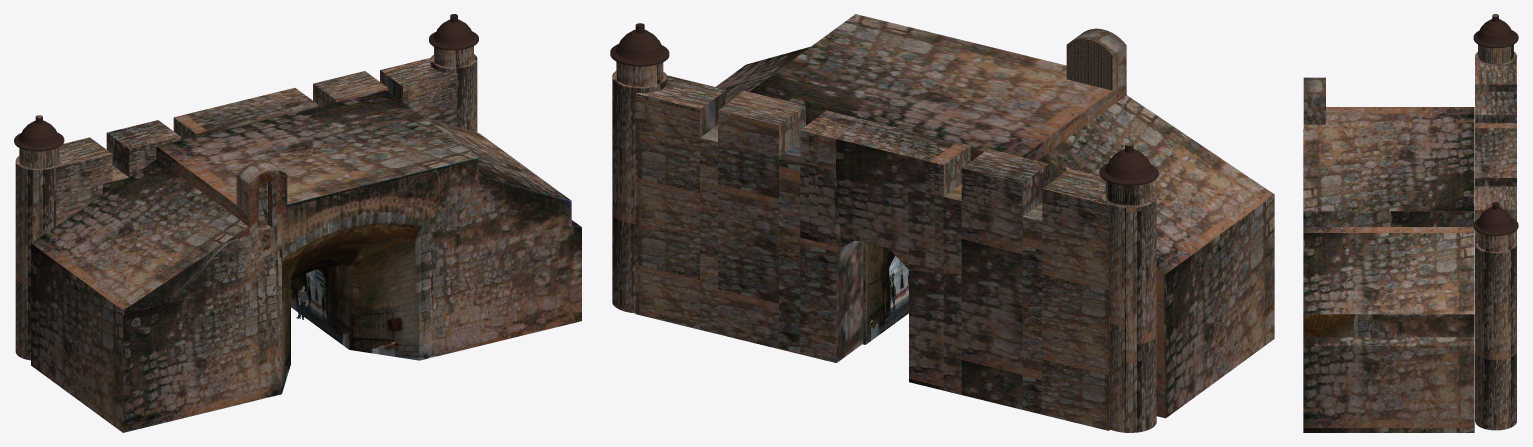
Rendered from Modelo_Puerta_del_Conde_2 (1).fbx.
3 renders of one model, left to right at view 1: azimuth 30°, elevation 25°; view 2: azimuth 150°, elevation 25°; view 3: azimuth 270°, elevation 25°, orthographic. The views are drawn at different scales.
Parts seen in each view (by area): view 1: Sketchup, Sketchup.002, Cube, Cylinder.002, Cylinder.001, Cylinder.004, Cylinder.003; view 2: Cube, Sketchup.002, Cylinder.002, Sketchup, Cylinder.001, Sketchup.001, Cylinder.004, Cylinder.003; view 3: Sketchup.002, Sketchup, Cylinder.001, Cube, Cylinder.004, Cylinder.003, Cylinder.002.
Part boxes in pixels (x1,y1,x2,y2): Sketchup: (123,146,581,432); Sketchup.002: (31,90,570,432); Cube: (55,57,457,225); Cylinder.002: (15,115,62,360); Cylinder.001: (430,46,477,132); Cylinder.004: (429,14,478,50); Cylinder.003: (14,117,64,151); Cube: (635,75,1109,430); Sketchup.002: (716,14,1274,417); Cylinder.002: (1101,142,1156,432); Sketchup: (806,14,1165,418); Cylinder.001: (612,61,667,313); Sketchup.001: (1066,39,1112,90); Cylinder.004: (610,23,669,66); Cylinder.003: (1099,145,1158,185); Sketchup.002: (1303,107,1474,432); Sketchup: (1303,77,1474,432); Cylinder.001: (1475,232,1516,430); Cube: (1475,59,1516,242); Cylinder.004: (1473,201,1518,236); Cylinder.003: (1473,16,1518,48); Cylinder.002: (1475,14,1516,65).
Size of the model in its own units: 2342 by 1145 by 1021.
